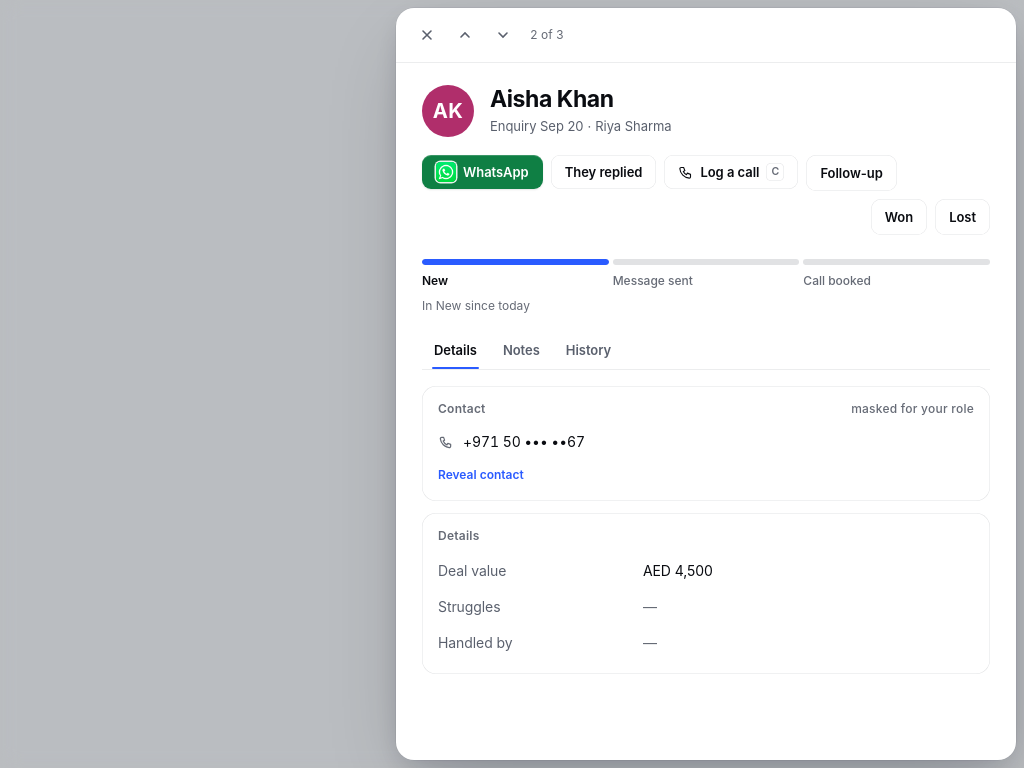
Test: LeadDrawer › the Sent prompt takes its own row under the actions, so it never covers the stage track
Click the button "WhatsApp" at point(482, 172), box [422,155,543,189]
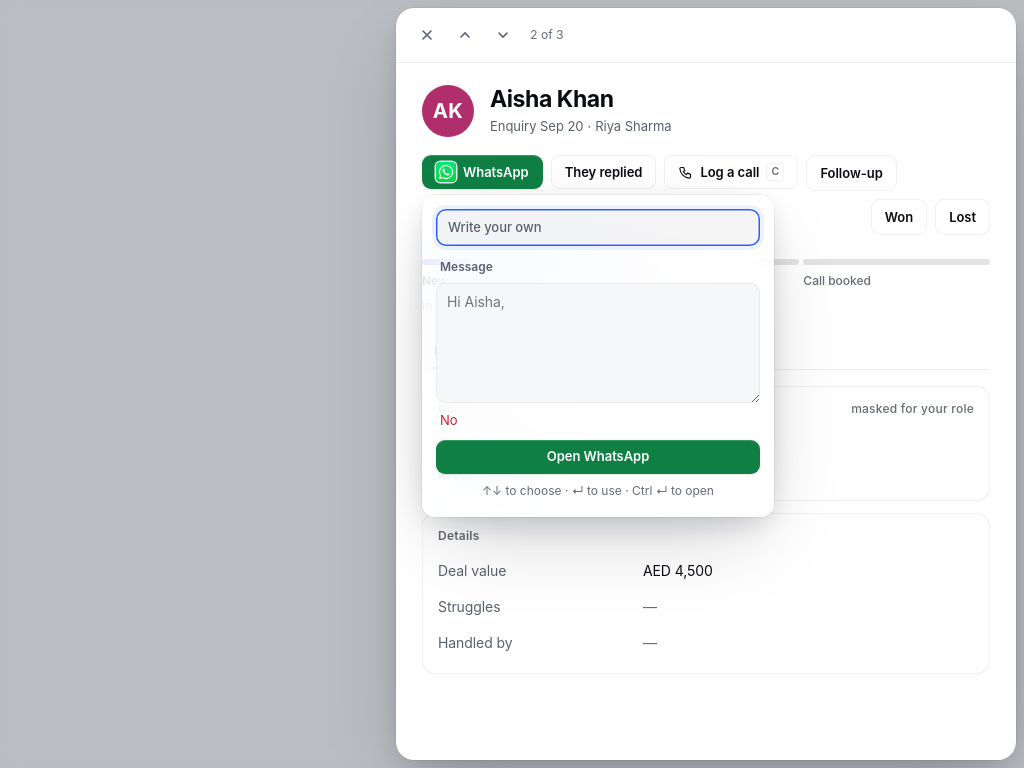
Click the button "Open WhatsApp" at point(598, 457), box [436,440,760,474]
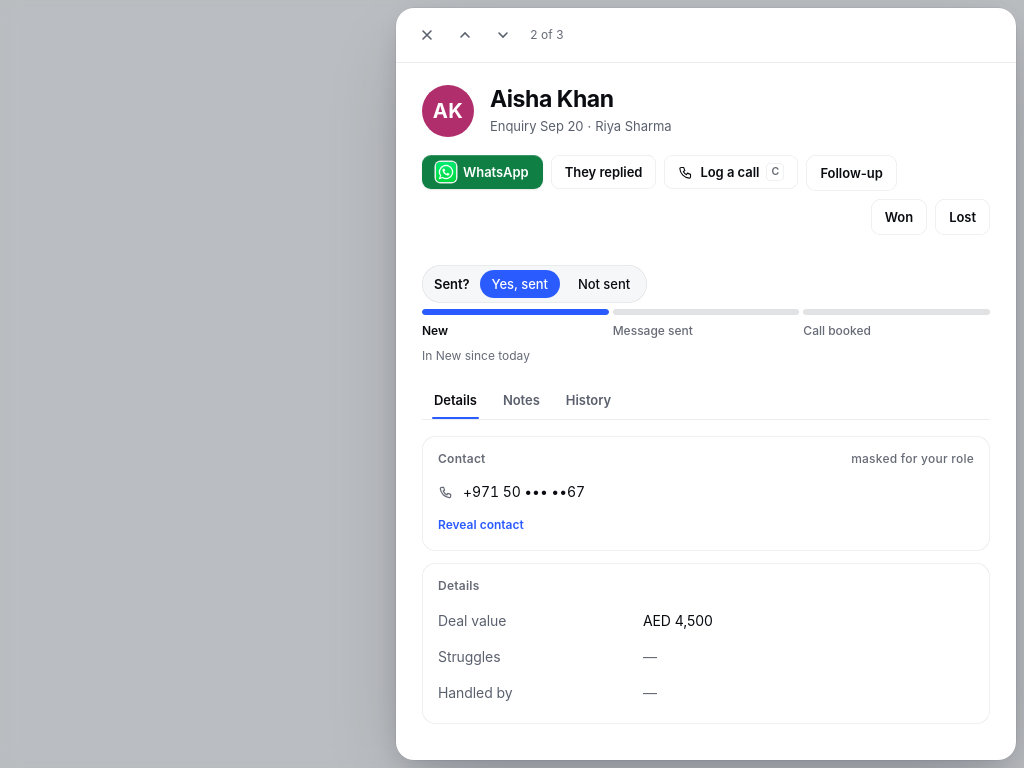
Check: the element named "Was the WhatsApp message sent?" is shown, box [422,265,647,303]
